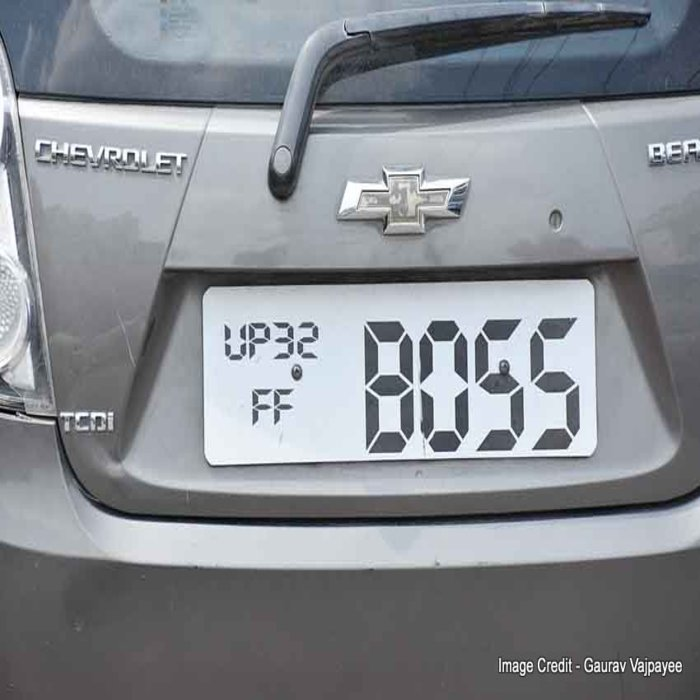n: (200, 282, 602, 454)
